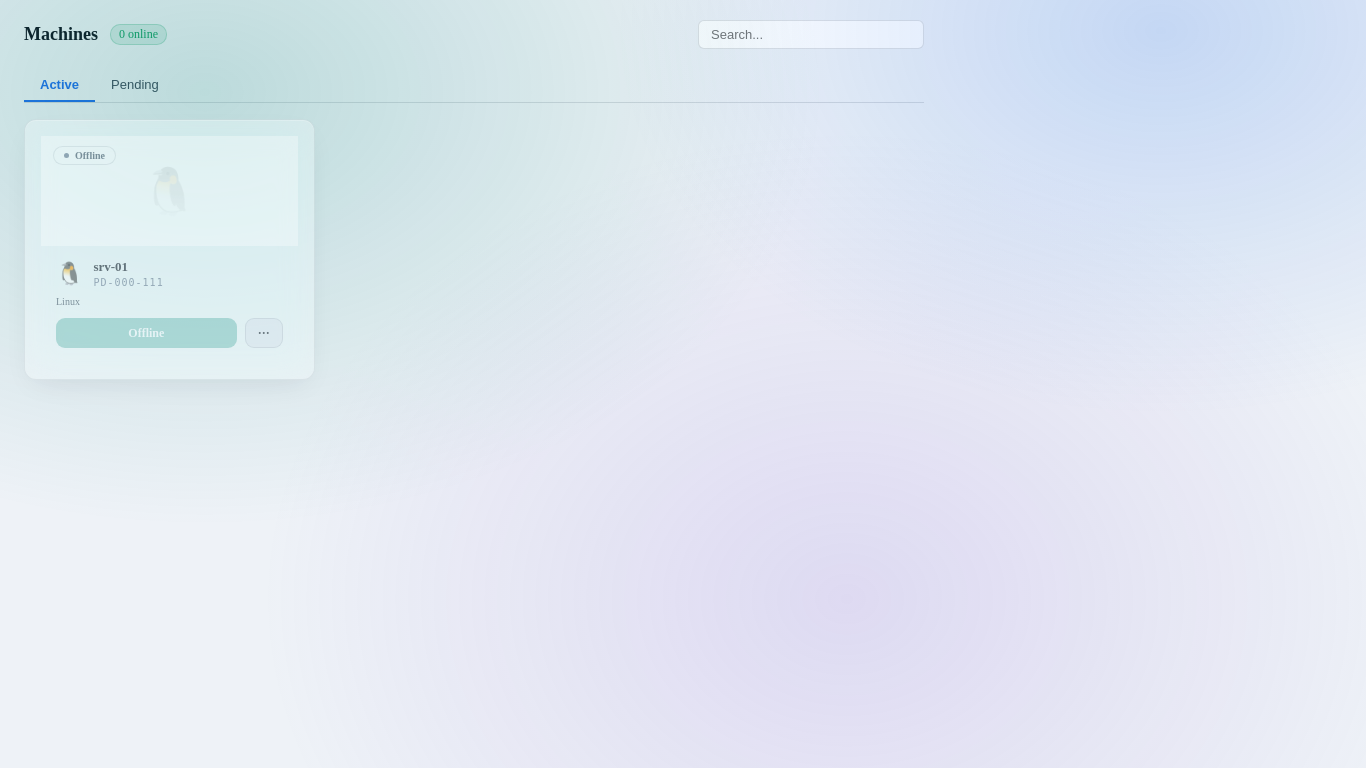
Test: MachinesPage deletion › opens a confirm dialog instead of a native window.confirm
This screenshot has width=1366, height=768.
Step 1. Click the button "···" → [264, 333], box [245,318,283,348]
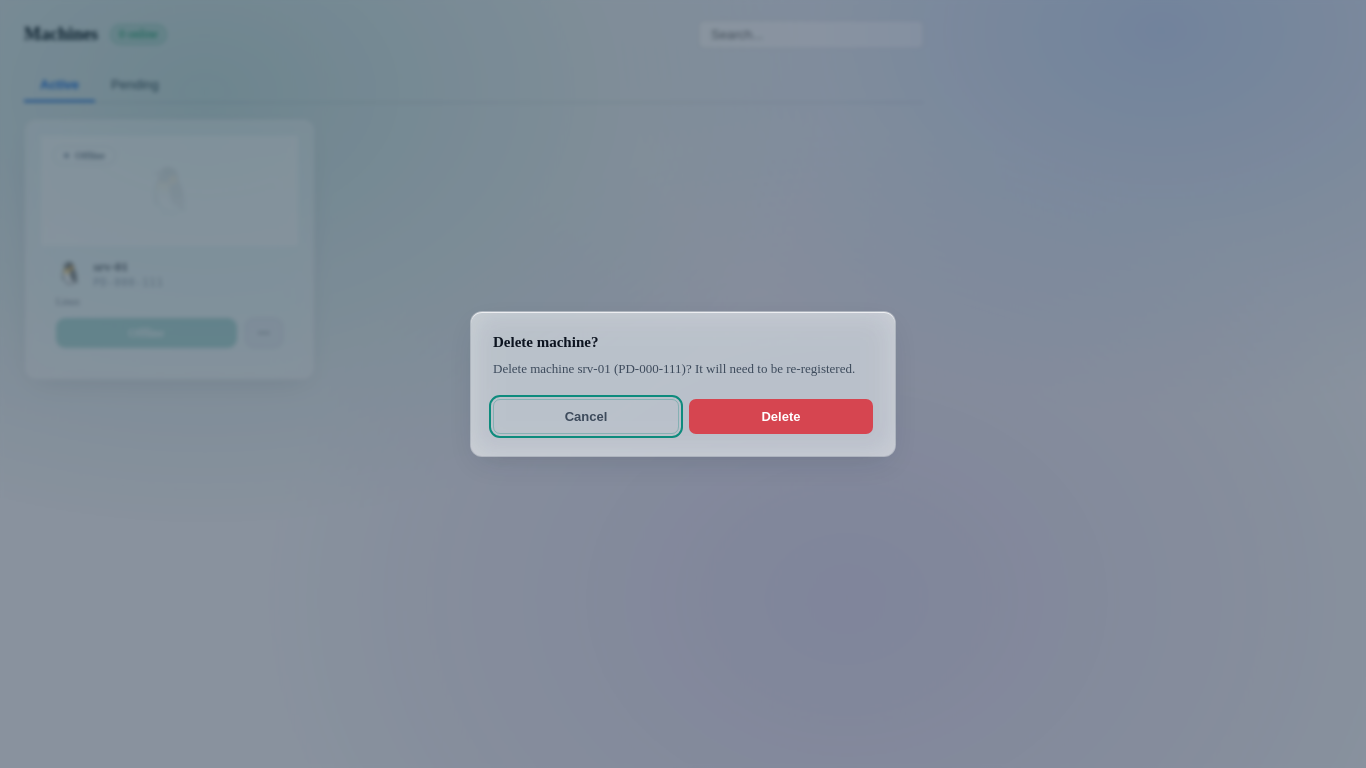
Expected: the dialog is shown, [470,311,896,457]
